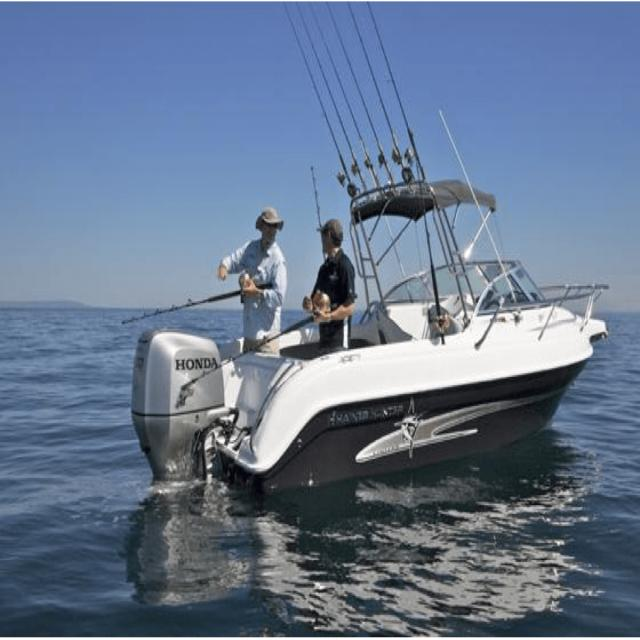Fishing Boat: (62, 109, 640, 498)
